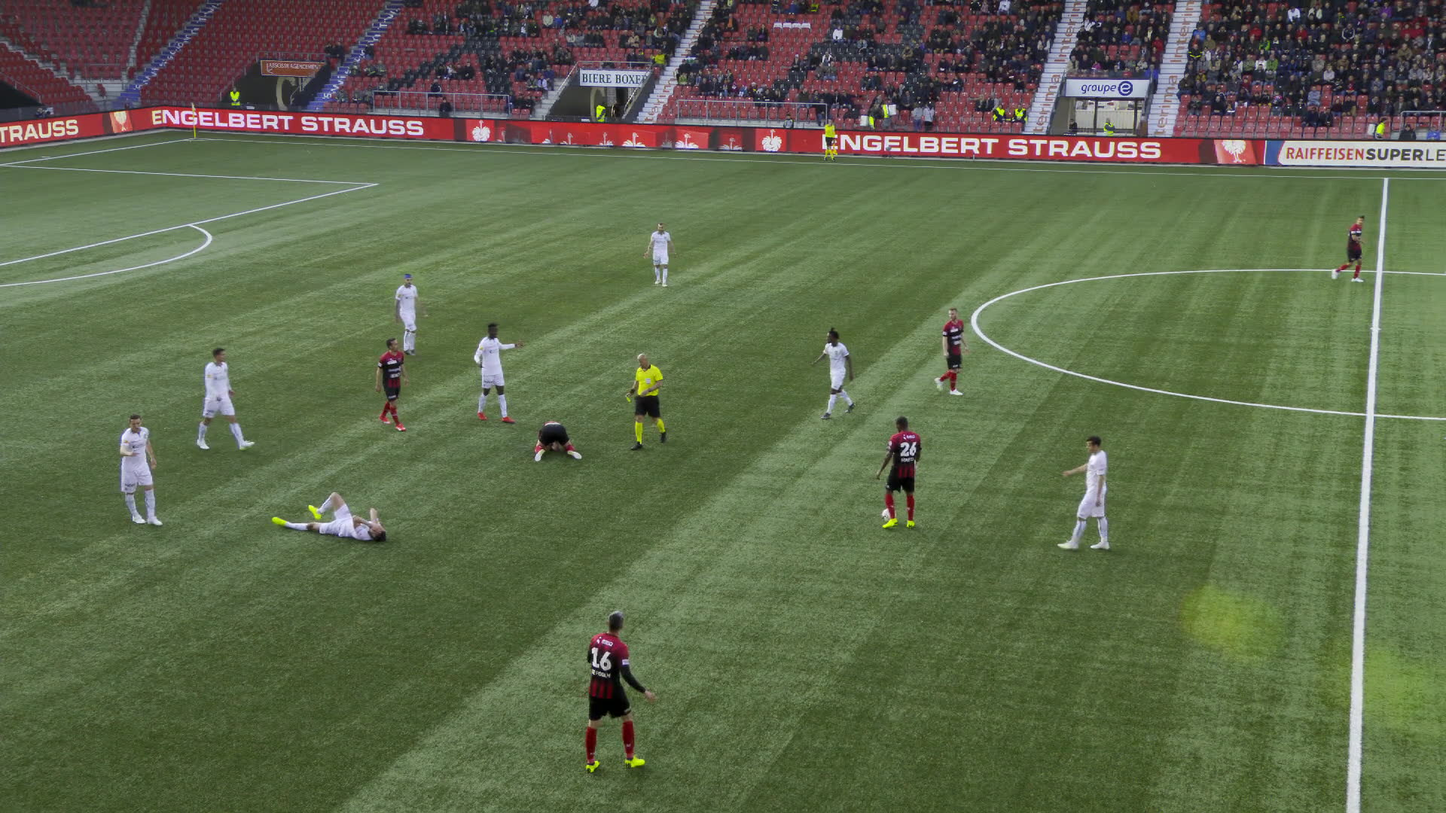ball: (883, 508, 893, 519)
player: (584, 611, 650, 774), (1066, 435, 1115, 550), (273, 492, 386, 540), (875, 416, 920, 528), (195, 346, 243, 450), (474, 322, 522, 422), (118, 414, 159, 525), (814, 323, 854, 417), (375, 336, 407, 430), (935, 307, 968, 394), (392, 274, 426, 355), (1333, 215, 1368, 281), (643, 221, 675, 285), (534, 420, 582, 461)
referee: (627, 351, 666, 449), (822, 118, 834, 161)
